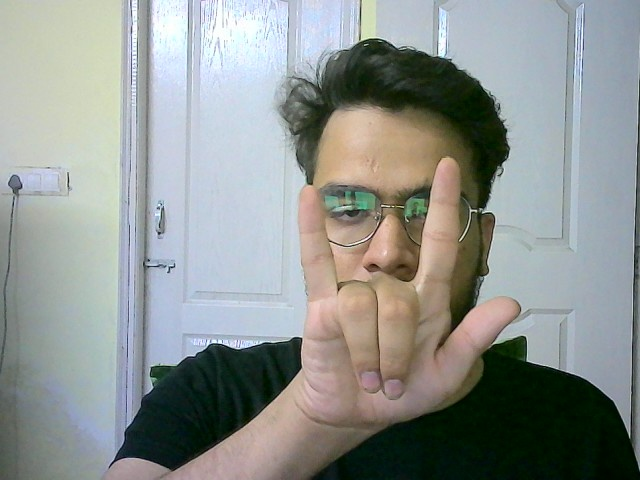I Love You: (288, 156, 525, 437)
